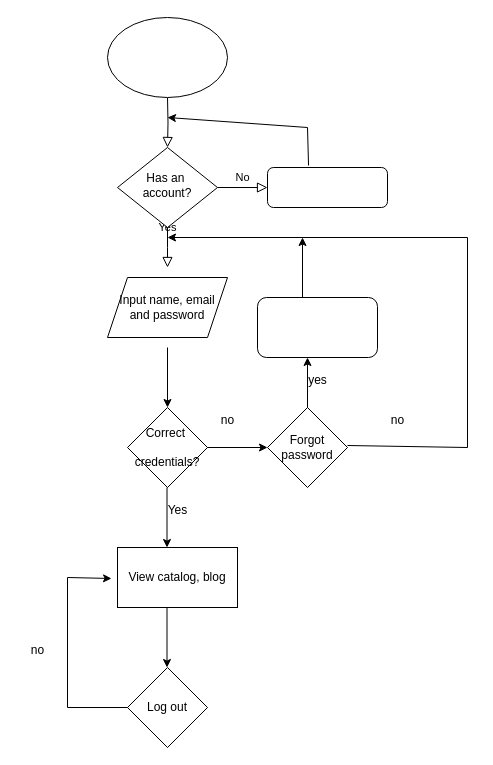
This 493x765 diagram has some shape labels left out. The shapes that lost their labels are listed below. From the top down, each one's centre as x and y in pixels, then its label:
At pixel 167 57: "Start".
At pixel 327 187: "Create account".
At pixel 317 327: "Reset password".
